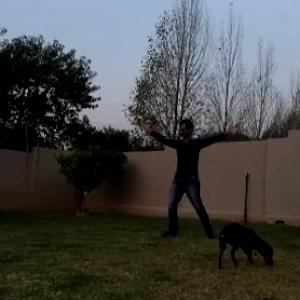takeoff: (148, 113, 268, 250)
